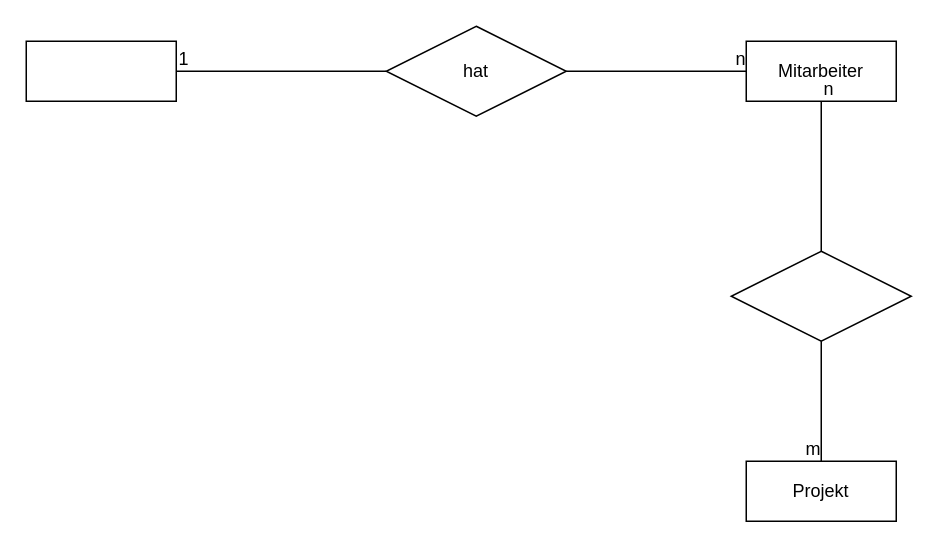
Image size: 938x548. Some labels were removed from this diagram. Here are the shapes that lost their labels. From the top down, the box of each, then its label:
(25, 40, 176, 101): Abteilung
(730, 250, 911, 341): eingesetzt
